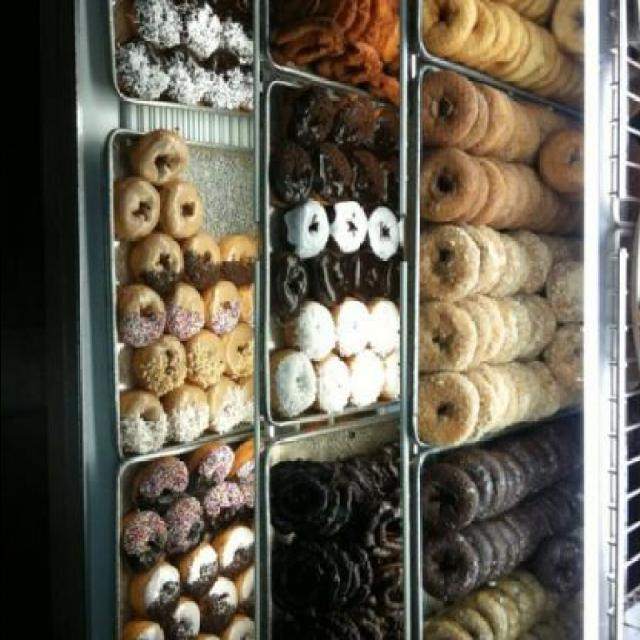Donuts: (113, 4, 616, 638)
